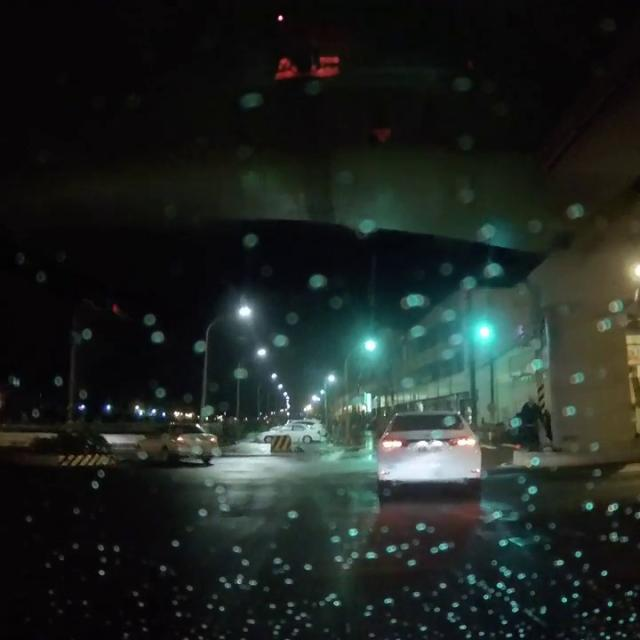Car: (371, 408, 486, 488), (135, 423, 219, 464), (258, 418, 328, 442)
